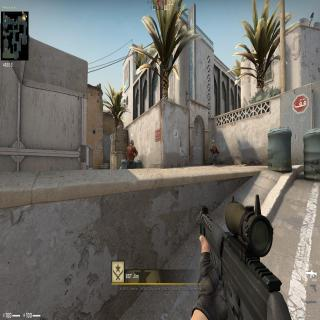T-Head: (130, 139, 134, 146), (212, 143, 214, 149)
